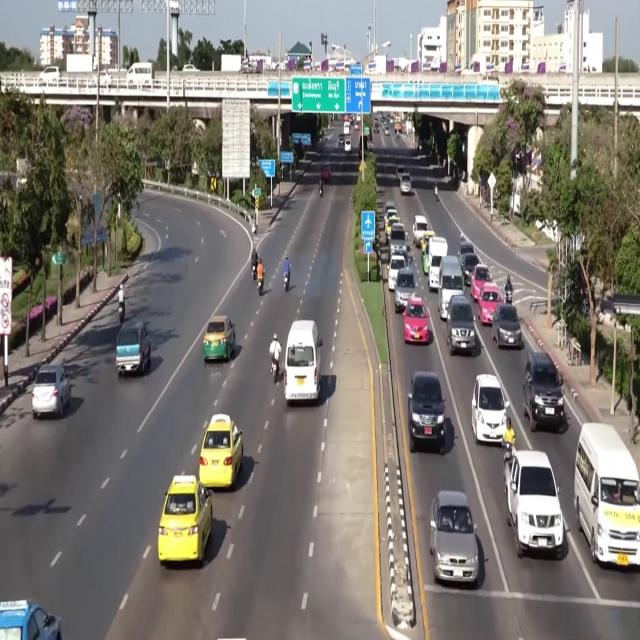car: (158, 475, 212, 565), (430, 490, 478, 587), (523, 352, 565, 431), (199, 414, 243, 488), (408, 372, 445, 454), (471, 375, 509, 443), (0, 600, 61, 639), (32, 364, 70, 418), (116, 320, 151, 375), (447, 296, 475, 354), (203, 316, 236, 361), (492, 304, 523, 348), (403, 297, 429, 344), (478, 282, 502, 325), (394, 269, 416, 312), (470, 263, 492, 301), (388, 254, 408, 291), (388, 223, 408, 255), (421, 229, 435, 274), (461, 253, 480, 286), (412, 216, 429, 247), (384, 208, 400, 240), (458, 238, 475, 261), (394, 248, 412, 267), (91, 70, 110, 87), (40, 66, 60, 82), (400, 174, 412, 195), (321, 164, 332, 184), (384, 200, 395, 217), (397, 166, 406, 182), (183, 64, 199, 72), (344, 138, 352, 153), (338, 134, 344, 147), (374, 122, 379, 133), (384, 126, 389, 135), (354, 122, 359, 130), (356, 114, 361, 122)
scooty: (271, 359, 278, 383), (118, 303, 124, 324), (505, 289, 512, 304), (257, 278, 263, 295), (284, 272, 289, 291), (252, 265, 256, 280), (319, 186, 323, 197)
traffic signal: (210, 176, 216, 191)
truck: (504, 449, 564, 557), (428, 237, 447, 291), (65, 54, 93, 73), (221, 55, 241, 72)
